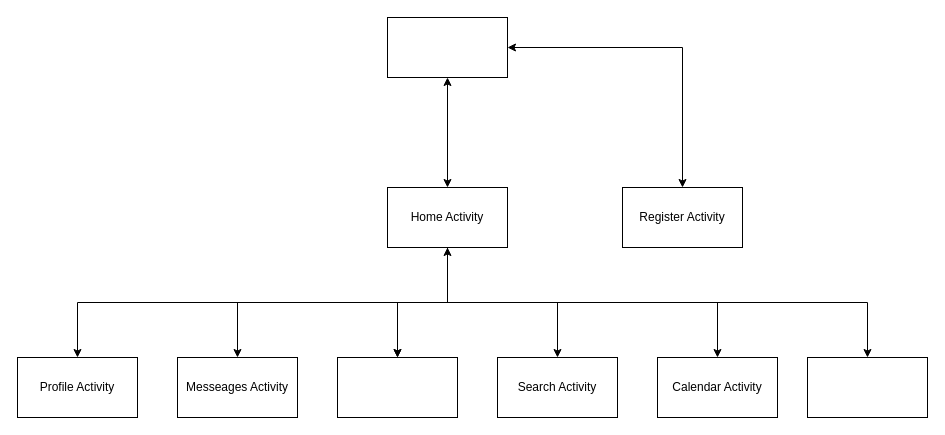
Some shapes in this 945 by 435 pixel diagram are drawn without their labels. Each missing label, with the centre of its shape:
Login Activity: point 447,47
Map Activity: point 867,387
Ratings Activity: point 397,387
